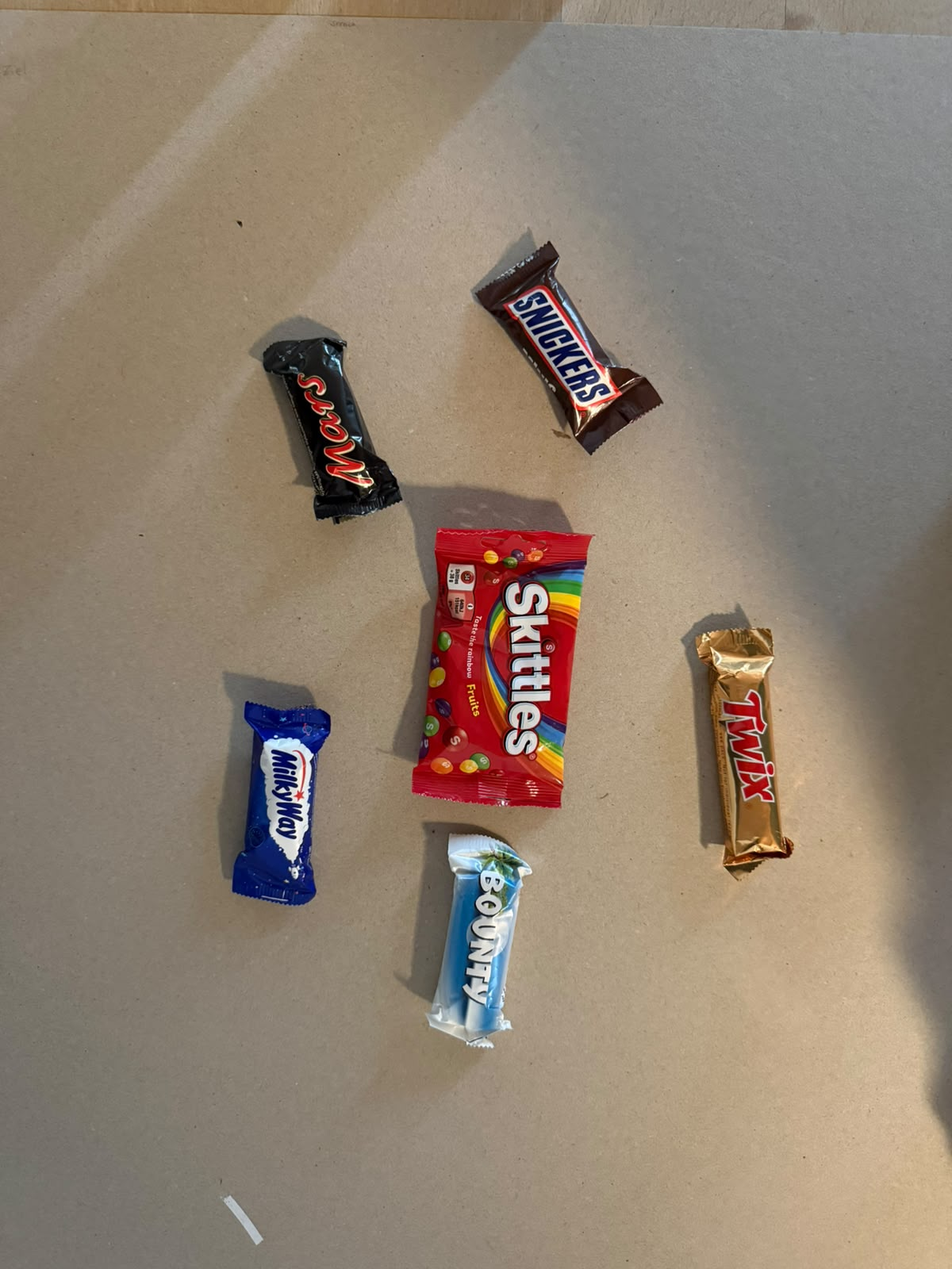Bounty: (438, 831, 525, 1059)
Mars: (233, 352, 340, 550)
MilkyWay: (230, 701, 325, 899)
Skittles: (423, 510, 585, 814)
Snickers: (448, 294, 562, 513)
Twix: (687, 621, 802, 878)
